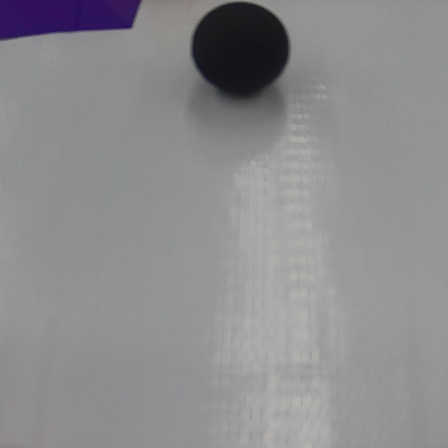black: (192, 1, 294, 104)
